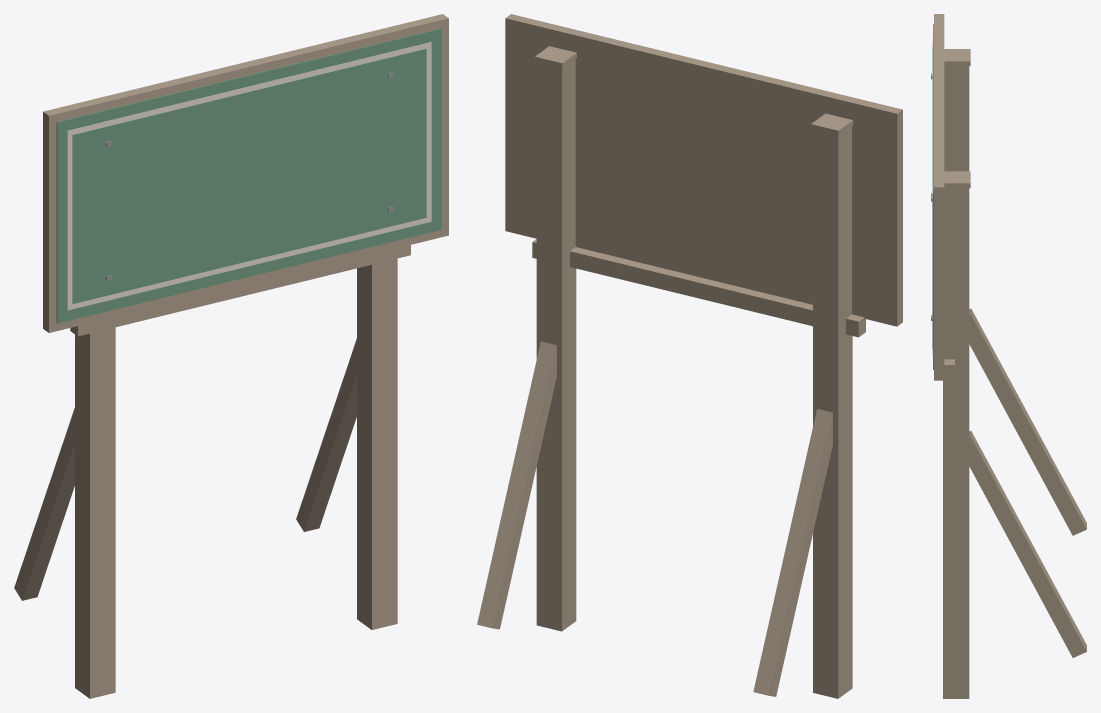
Rendered from station_sign.glb.
The picture shows the model from 3 angles, left to right: view 1: azimuth 30°, elevation 25°; view 2: azimuth 150°, elevation 25°; view 3: azimuth 270°, elevation 25°; orthographic projection. The views are drawn at different scales.
Parts seen in each view (by area): view 1: StationSign; view 2: StationSign; view 3: StationSign.
Part boxes in pixels (<box>): StationSign: <box>14,14,448,698</box>; StationSign: <box>477,14,902,698</box>; StationSign: <box>931,14,1086,698</box>.
Bounding box in the file's own units: 1.56 × 2.23 × 0.593.
